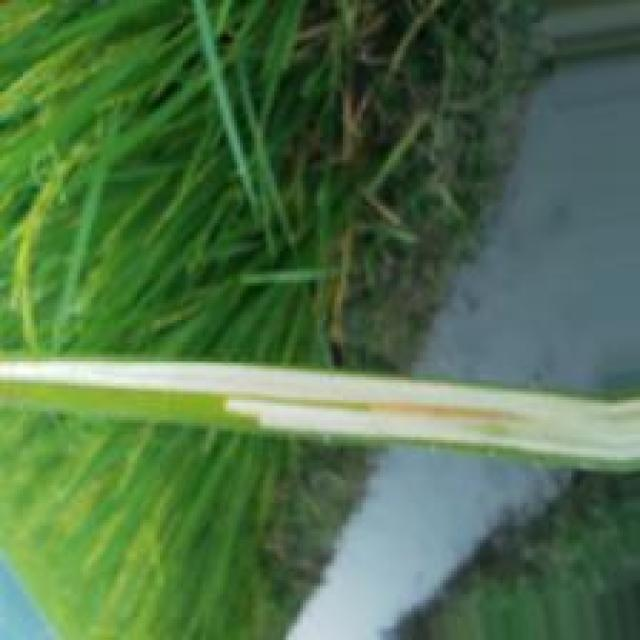Rice_Hispa: (1, 356, 640, 457)
